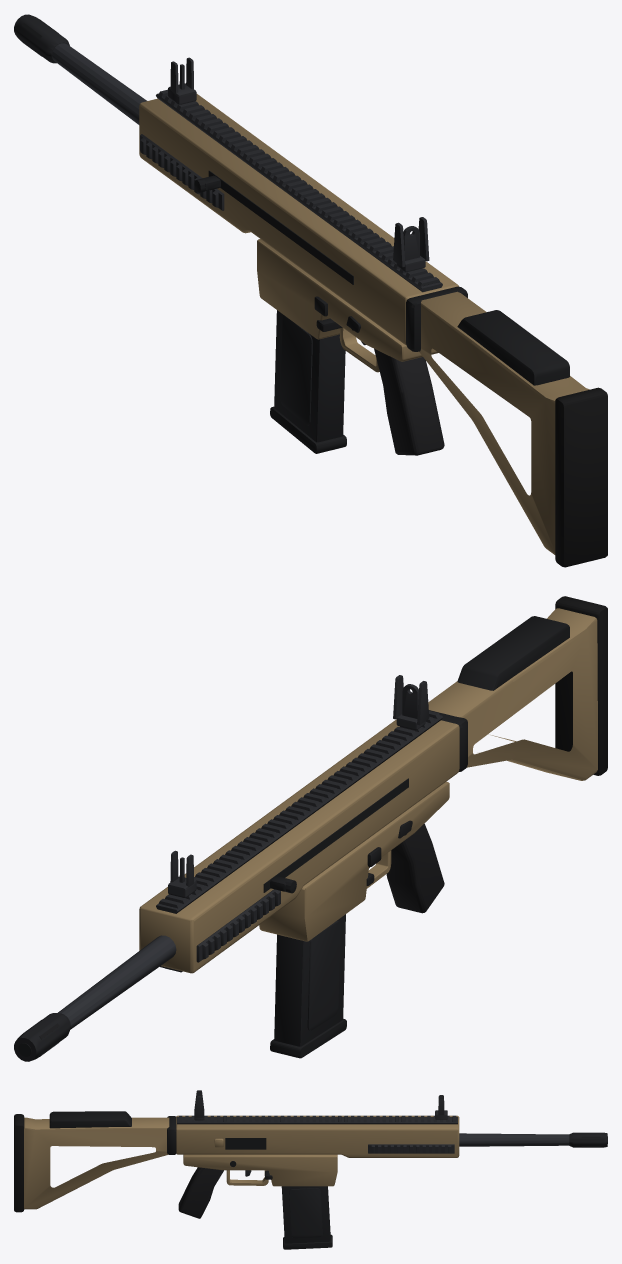
The picture shows the model from 3 angles, top to bottom: view 1: azimuth 30°, elevation 25°; view 2: azimuth 150°, elevation 25°; view 3: azimuth 270°, elevation 25°; orthographic projection. The views are drawn at different scales.
Parts seen in each view (by area): view 1: body_tan_0, body_rubber_7, body_alu_1, body_poly_4, mag_dark_9, body_grip_2, rearsight_alu_6, body_metal_3, body_dark_5, mag_poly_10; view 2: body_tan_0, body_alu_1, mag_dark_9, body_poly_4, body_rubber_7, body_grip_2, body_metal_3, rearsight_alu_6, body_dark_5, mag_poly_10; view 3: body_tan_0, body_alu_1, mag_dark_9, body_poly_4, body_metal_3, body_grip_2, body_rubber_7, body_dark_5, rearsight_alu_6, mag_poly_10.
Part boxes in pixels (left/top/right/bottom): body_tan_0: left=139, top=94, right=589, bottom=554; body_rubber_7: left=555, top=387, right=607, bottom=567; body_alu_1: left=140, top=89, right=442, bottom=292; body_poly_4: left=22, top=19, right=569, bottom=385; mag_dark_9: left=274, top=310, right=345, bottom=442; body_grip_2: left=374, top=348, right=444, bottom=455; rearsight_alu_6: left=168, top=57, right=429, bottom=271; body_metal_3: left=52, top=43, right=365, bottom=345; body_dark_5: left=14, top=14, right=69, bottom=63; mag_poly_10: left=270, top=406, right=346, bottom=453; body_tan_0: left=139, top=608, right=597, bottom=973; body_alu_1: left=156, top=711, right=442, bottom=972; mag_dark_9: left=274, top=914, right=345, bottom=1046; body_poly_4: left=18, top=616, right=569, bottom=1056; body_rubber_7: left=555, top=596, right=607, bottom=775; body_grip_2: left=386, top=823, right=444, bottom=913; body_metal_3: left=58, top=867, right=369, bottom=1029; rearsight_alu_6: left=168, top=675, right=429, bottom=897; body_dark_5: left=14, top=1013, right=70, bottom=1061; mag_poly_10: left=270, top=1019, right=346, bottom=1058; body_tan_0: left=24, top=1115, right=459, bottom=1209; body_alu_1: left=177, top=1115, right=457, bottom=1153; mag_dark_9: left=281, top=1186, right=330, bottom=1243; body_poly_4: left=49, top=1111, right=607, bottom=1179; body_metal_3: left=245, top=1133, right=569, bottom=1176; body_grip_2: left=178, top=1167, right=223, bottom=1218; body_rubber_7: left=14, top=1114, right=24, bottom=1212; body_dark_5: left=569, top=1132, right=607, bottom=1147; rearsight_alu_6: left=194, top=1090, right=447, bottom=1120; mag_poly_10: left=283, top=1234, right=332, bottom=1249.
Size of the model in its own units: 0.0775 by 0.2641 by 0.9325.
